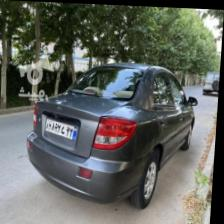plate: (47, 116, 81, 139)
